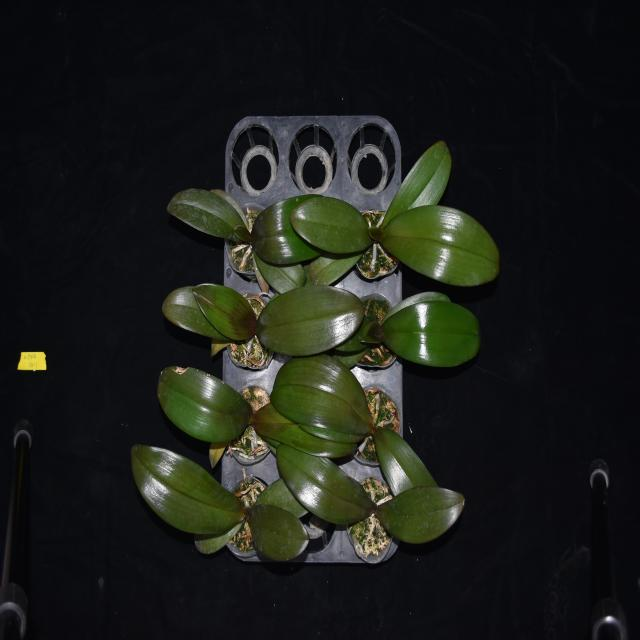leaf: (130, 442, 247, 542), (380, 204, 501, 292), (269, 351, 375, 446), (274, 445, 374, 539), (154, 361, 252, 451), (256, 280, 364, 358), (371, 297, 487, 369), (249, 401, 363, 460), (376, 142, 454, 226), (375, 485, 466, 548), (252, 191, 327, 261), (166, 185, 251, 244), (373, 426, 437, 503), (289, 201, 375, 258), (241, 500, 311, 561), (156, 279, 222, 340), (195, 280, 256, 340), (252, 470, 308, 522), (306, 243, 363, 285), (258, 252, 306, 296), (196, 524, 248, 557), (360, 316, 384, 348), (253, 263, 271, 295), (232, 221, 250, 245), (208, 441, 222, 466), (369, 217, 381, 245)
